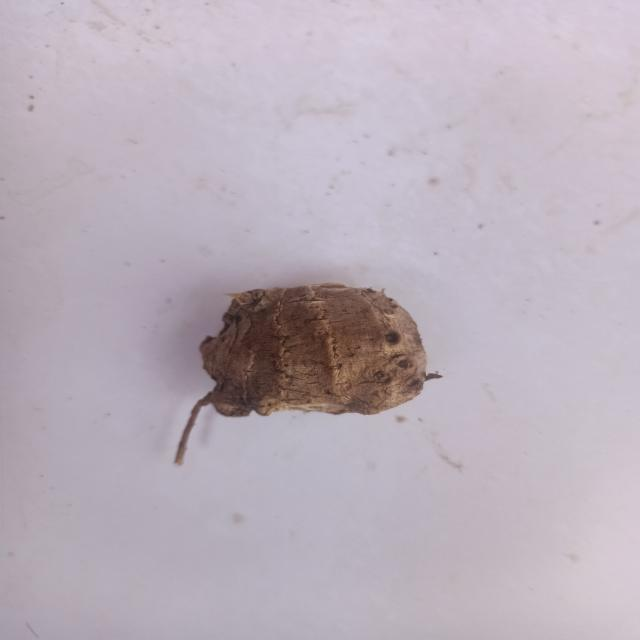Ginger: (154, 272, 478, 478)
